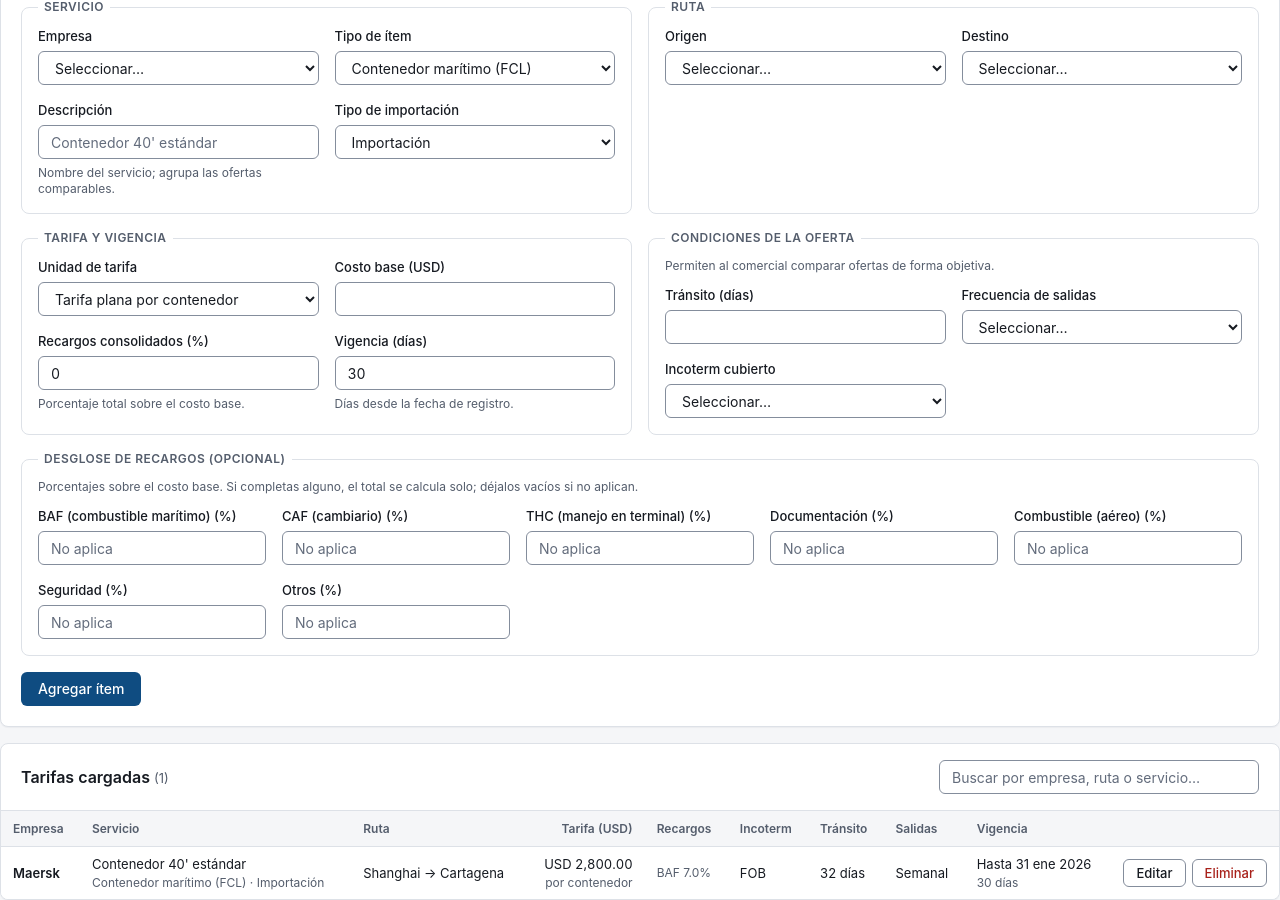
Scenario: ItemsPage — edición › Editar carga el ítem en el formulario, con porcentajes sin ruido de coma flotante
The image size is (1280, 900).
(page scrolled)
Expected: the text "Contenedor 40' estándar" is shown, x1=92 y1=856 x2=246 y2=872
Click the button "Editar". click: (1155, 873)
box: x1=1124 y1=859 x2=1186 y2=887
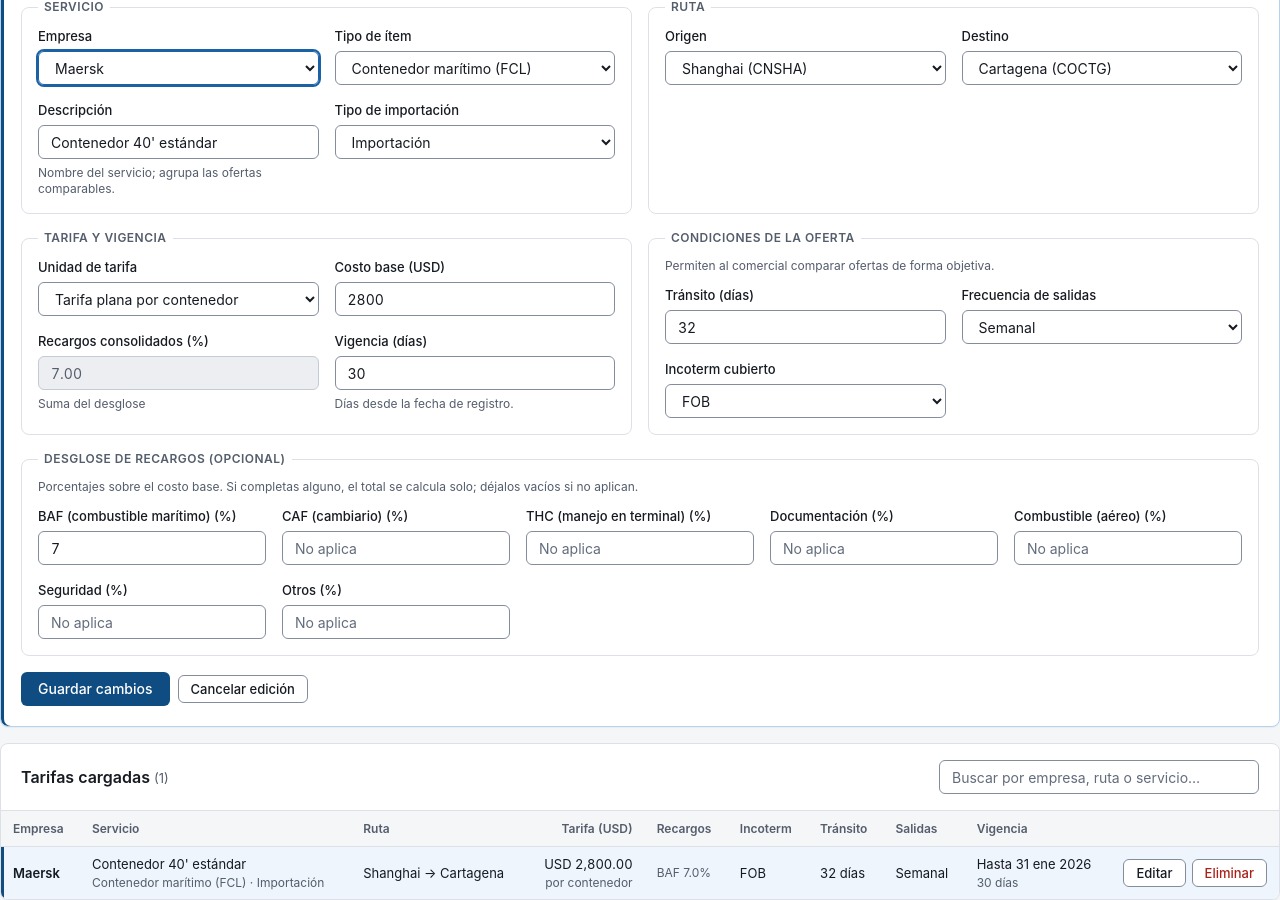
Expected: the dropdown labelled "Empresa" shows "Maersk", x1=38 y1=51 x2=318 y2=85
Expected: the dropdown labelled "Origen" shows "Shanghai (CNSHA)", x1=665 y1=51 x2=946 y2=85
Expected: the number field labelled "Costo base (USD)" holds "2800", x1=334 y1=282 x2=615 y2=316
